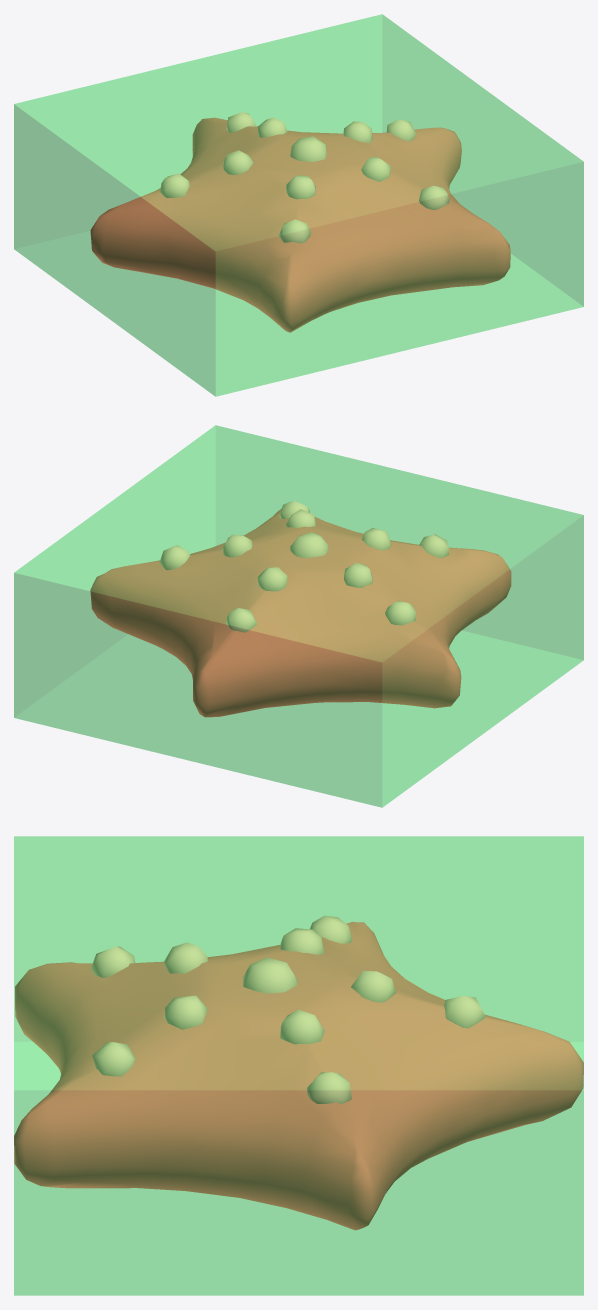
The model's file is Piece_08_Starfish.fbx.
3 renders of one model, top to bottom at view 1: azimuth 30°, elevation 25°; view 2: azimuth 150°, elevation 25°; view 3: azimuth 270°, elevation 25°, orthographic. The views are drawn at different scales.
Visible parts, largest first — view 1: COL_Piece_08, Piece_08_Starfish; view 2: COL_Piece_08, Piece_08_Starfish; view 3: COL_Piece_08, Piece_08_Starfish.
Part boxes in pixels (left/top/right/bottom): COL_Piece_08: left=14, top=14, right=583, bottom=396; Piece_08_Starfish: left=90, top=112, right=510, bottom=332; COL_Piece_08: left=14, top=425, right=583, bottom=807; Piece_08_Starfish: left=90, top=501, right=511, bottom=717; COL_Piece_08: left=14, top=836, right=583, bottom=1295; Piece_08_Starfish: left=14, top=915, right=583, bottom=1230.
Size of the model in its own units: 0.0671 by 0.0253 by 0.0636.
